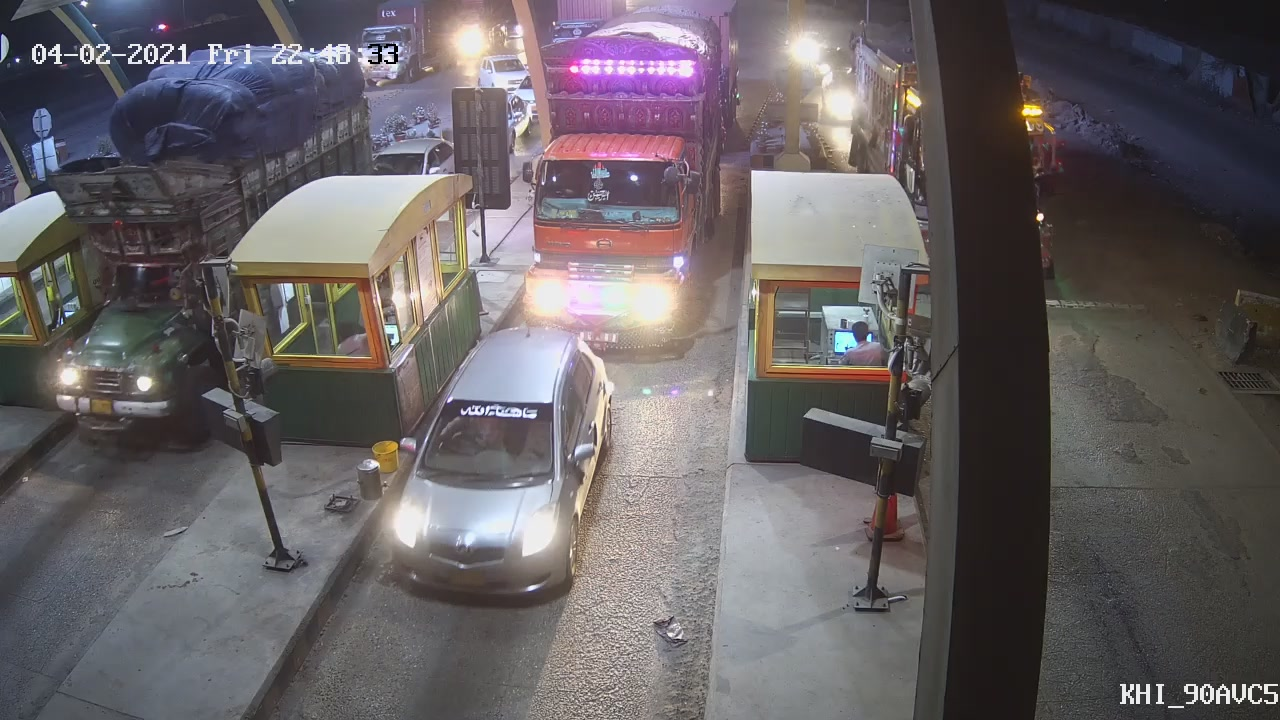F1: (386, 321, 620, 605)
F5: (516, 9, 745, 361)
